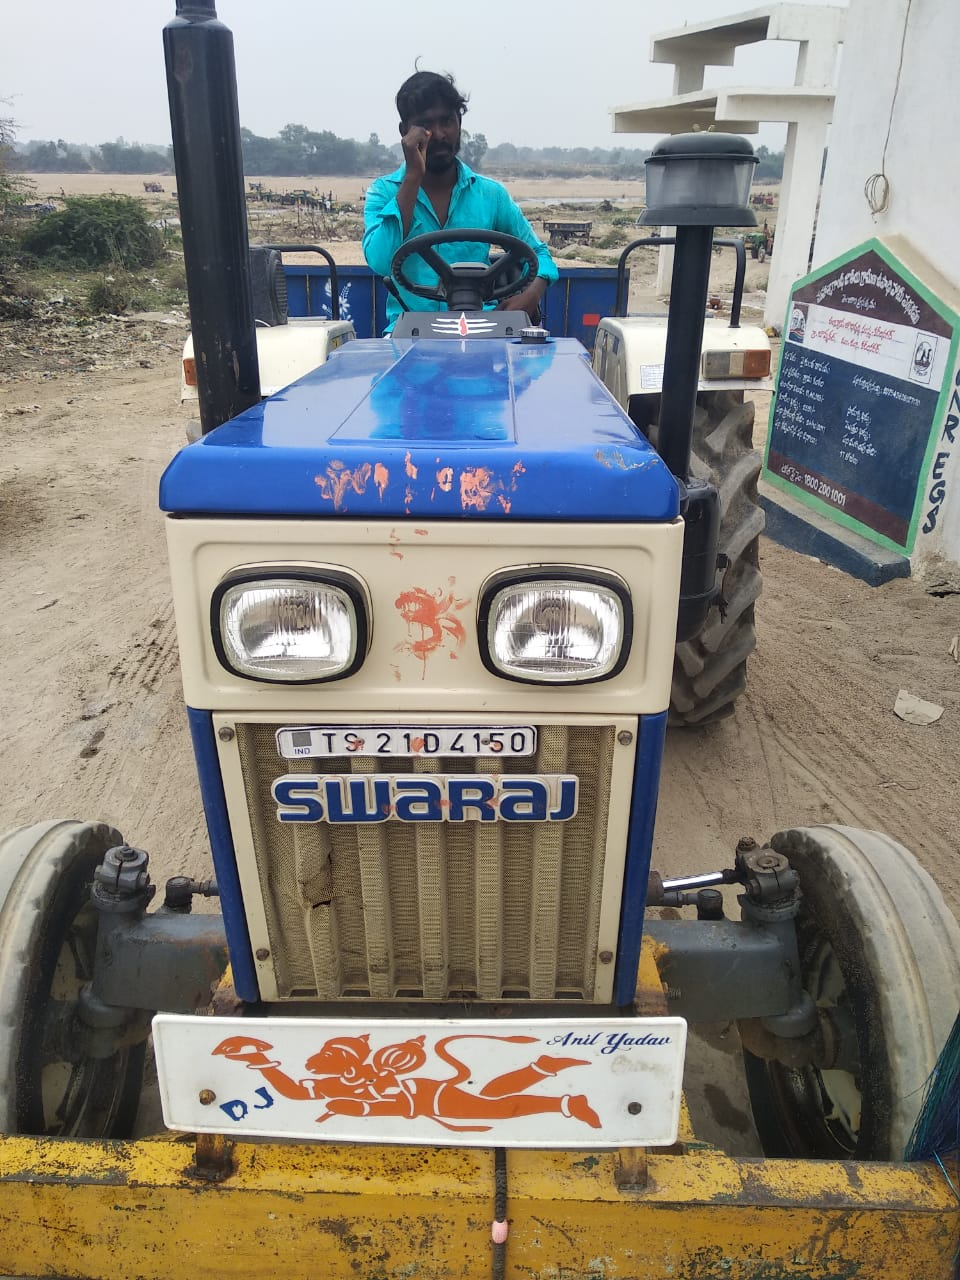license_plate: (277, 725, 539, 753)
